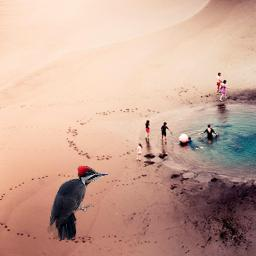Woodpecker: (47, 165, 110, 240)
